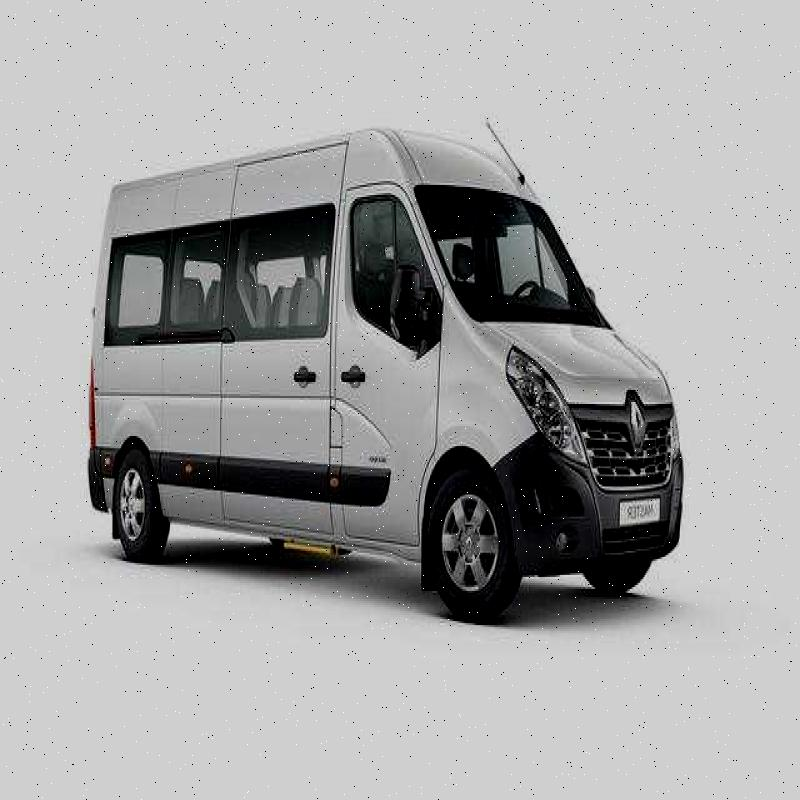bus: (83, 114, 684, 631)
